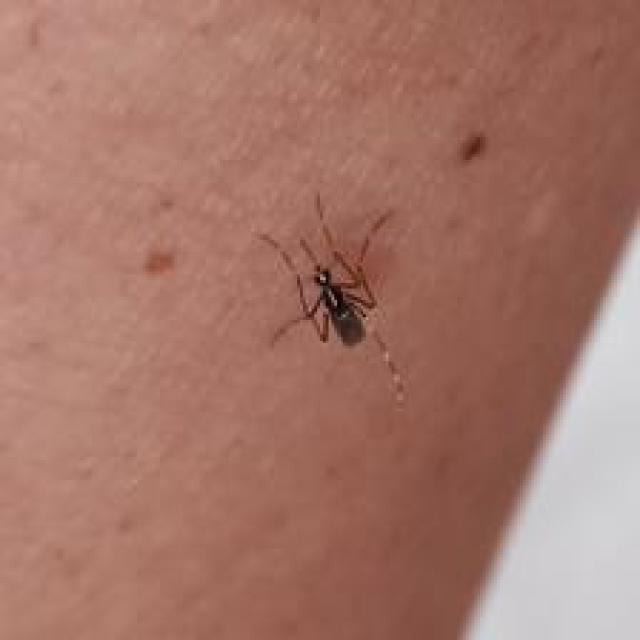Aedes albopictus: (256, 191, 407, 406)
